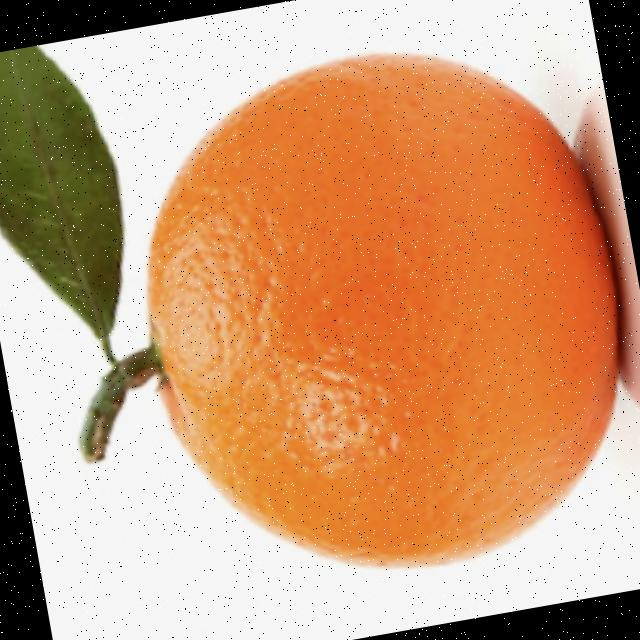orange: (97, 14, 640, 613)
